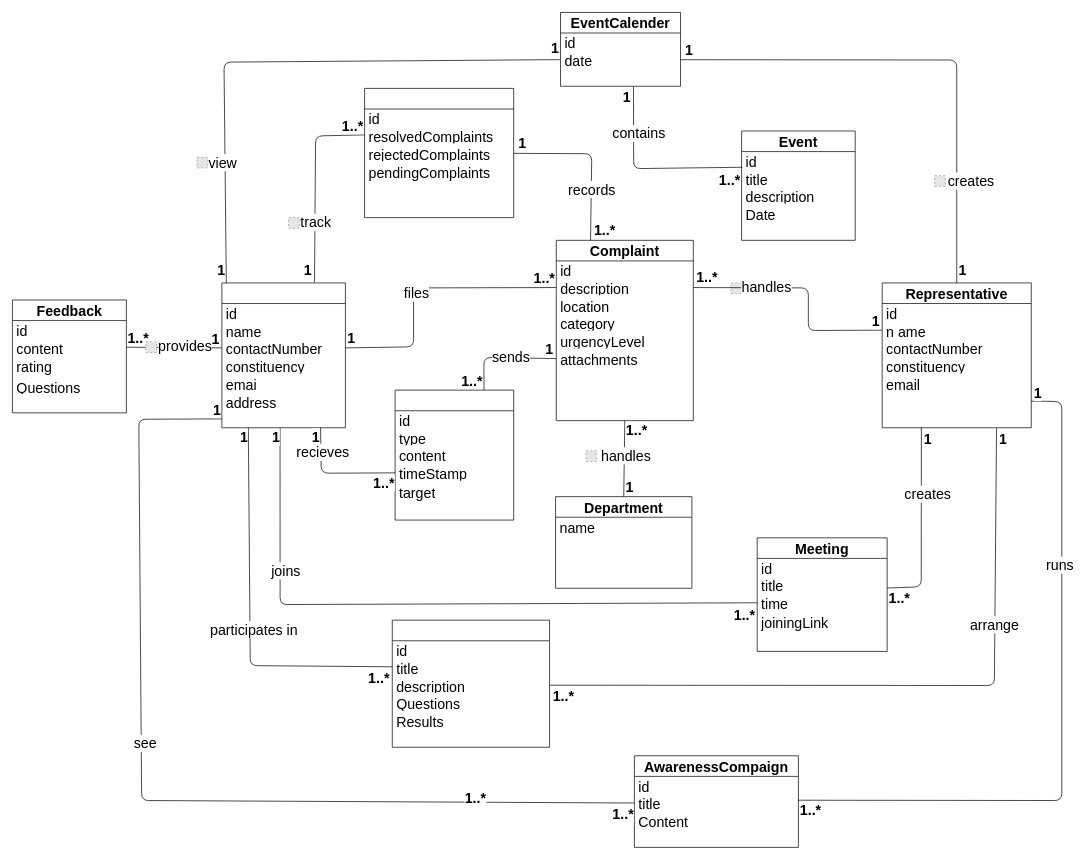
Some shapes in this 1089 by 860 pixel diagram are drawn without their labels. Grey dashed boxes stand in for pictures. Each missing label, with the box of its shape:
Constituent: (221, 282, 345, 428)
Notification: (394, 389, 514, 520)
Statistics: (364, 88, 514, 218)
Survey: (392, 619, 550, 747)
